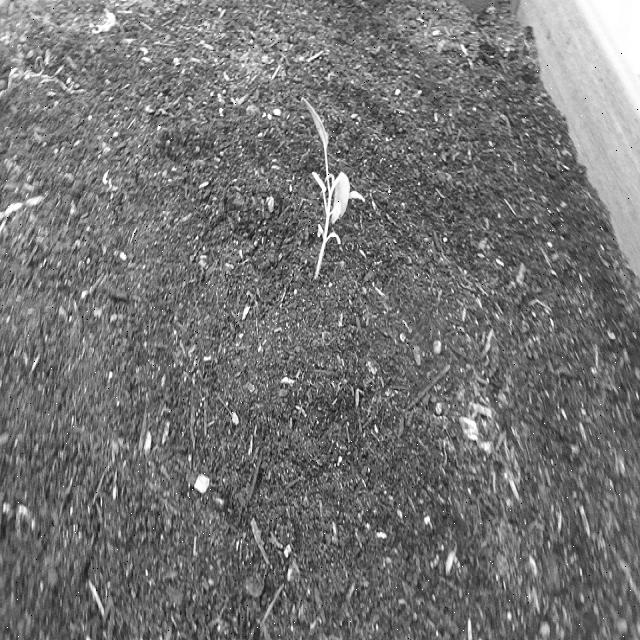Healthy: (295, 80, 376, 309)
